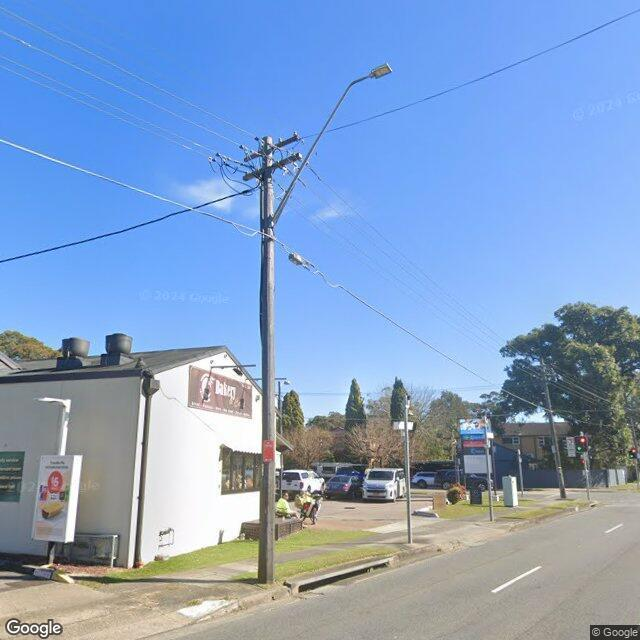crossarm: (243, 152, 302, 181), (244, 135, 300, 162)
steel-pole: (404, 405, 412, 543), (483, 417, 493, 522), (580, 432, 591, 501), (632, 446, 640, 490)
streetlight: (266, 63, 393, 228)
timber-pole: (257, 136, 274, 586), (540, 355, 568, 498)
traffic-light: (575, 436, 588, 453), (629, 447, 638, 459), (578, 459, 586, 470)
